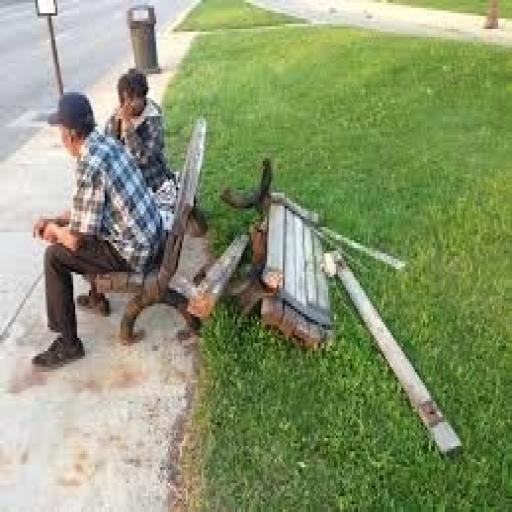sitting: (30, 84, 170, 370)
